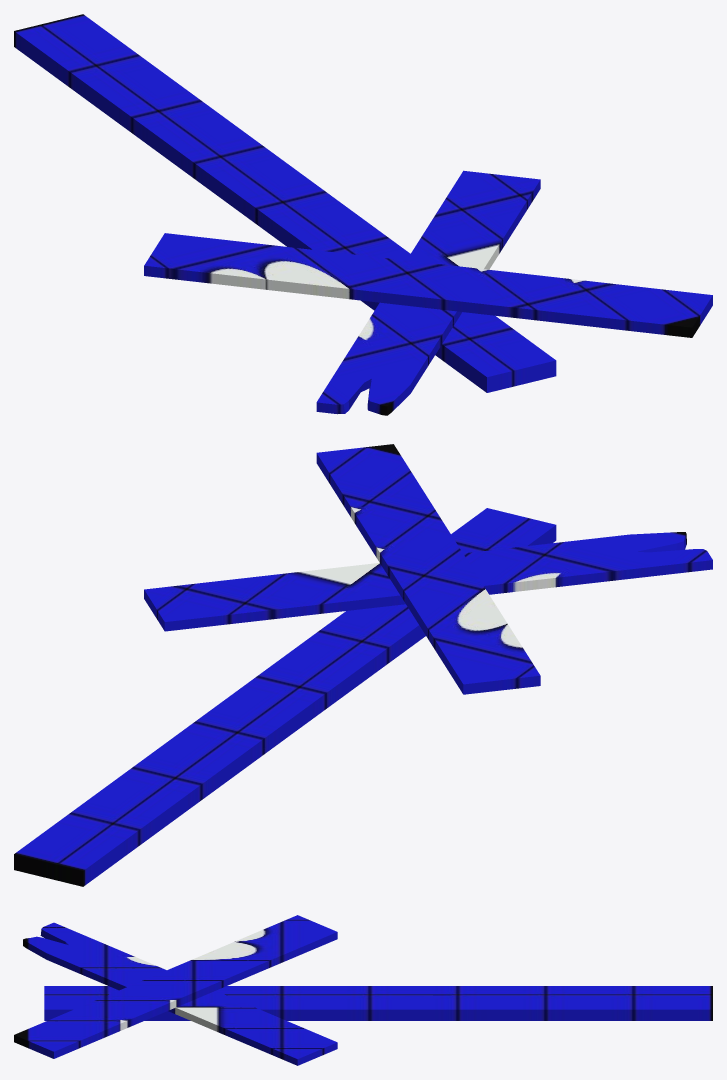
The model's file is railsign02.glb.
3 views of the same model, one above another, from view 1: azimuth 30°, elevation 25°; view 2: azimuth 150°, elevation 25°; view 3: azimuth 270°, elevation 25° (orthographic). The views are drawn at different scales.
Bounding box in the file's own units: 34.84 × 3.03 × 75.25.
Materials: 1 (1 with a texture image).
